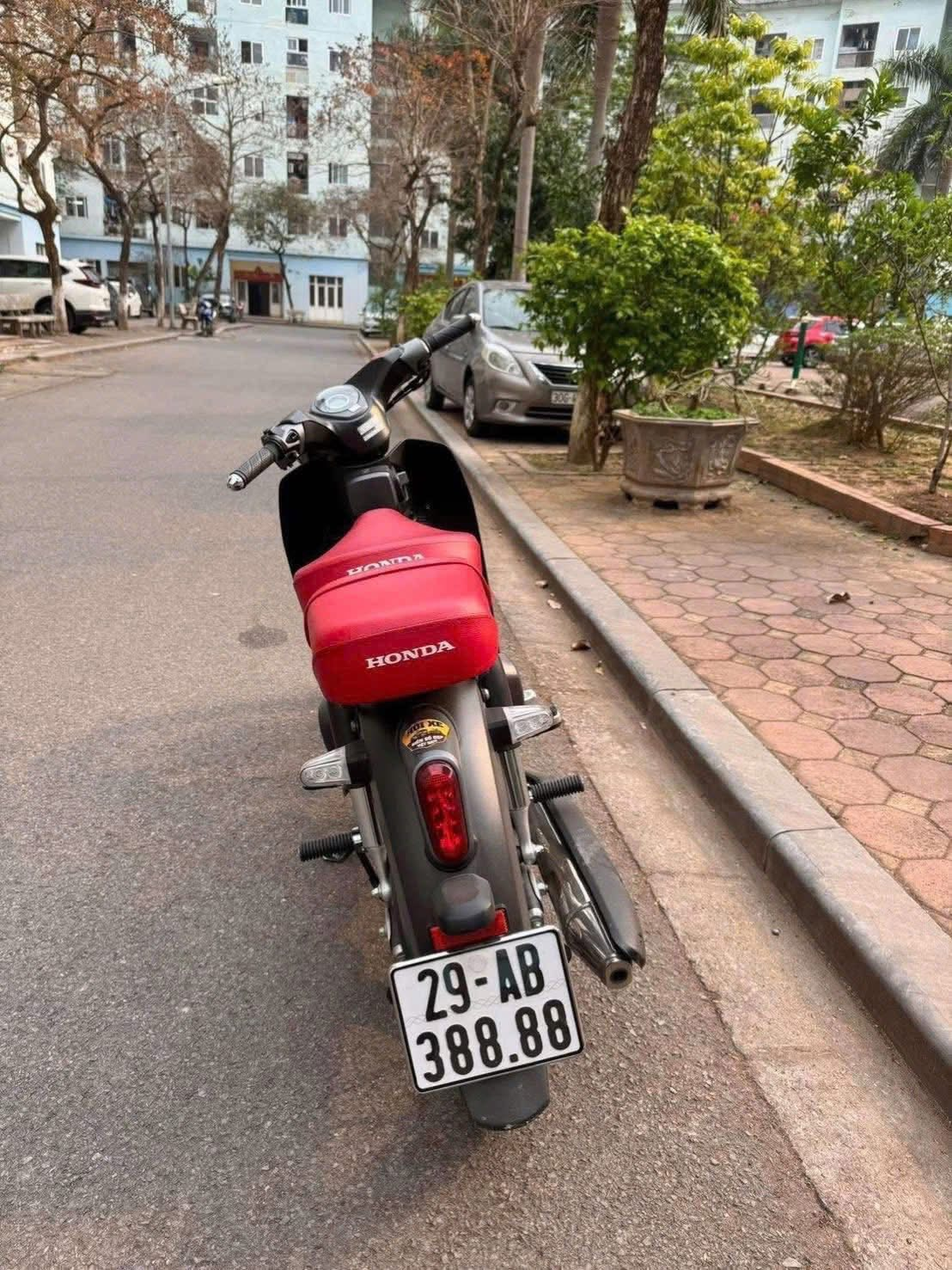bien_so: (385, 916, 587, 1103)
